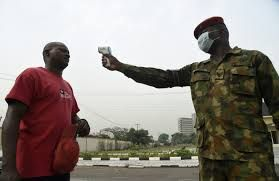uniform: (164, 44, 271, 177)
